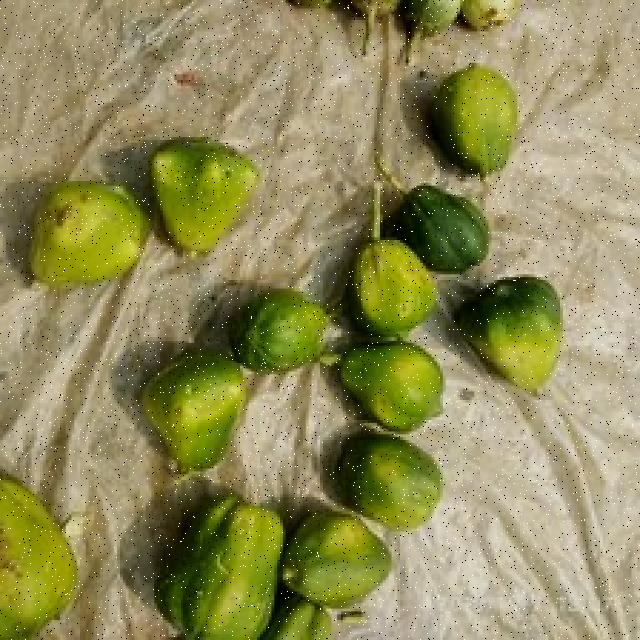Papaya: (142, 113, 276, 274), (300, 420, 467, 534), (349, 150, 497, 268), (24, 180, 153, 311), (182, 490, 291, 640), (444, 54, 522, 216), (482, 260, 572, 399)
